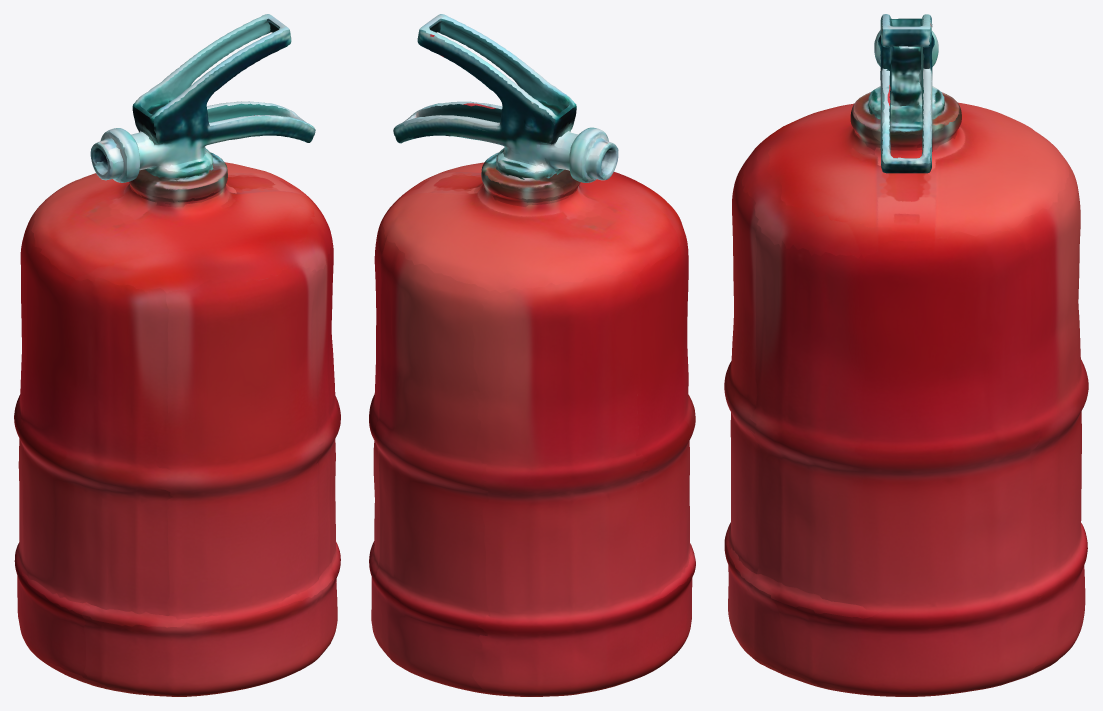
The model's file is gascan.fbx.
3 renders of one model, left to right at view 1: azimuth 30°, elevation 25°; view 2: azimuth 150°, elevation 25°; view 3: azimuth 270°, elevation 25°, orthographic. The views are drawn at different scales.
Parts seen in each view (by area): view 1: tmpt0gf_i75.ply; view 2: tmpt0gf_i75.ply; view 3: tmpt0gf_i75.ply.
Boxes of the visible parts, x1,y1,x2,y2 form: tmpt0gf_i75.ply: (14, 14, 340, 696); tmpt0gf_i75.ply: (369, 14, 695, 696); tmpt0gf_i75.ply: (724, 14, 1088, 696).
Size of the model in its own units: 49.86 by 98.87 by 49.79.
Materials: 1 (1 with a texture image).
